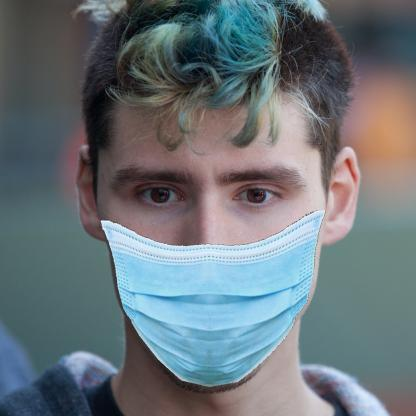Correctly_Masked: (94, 84, 330, 395)
